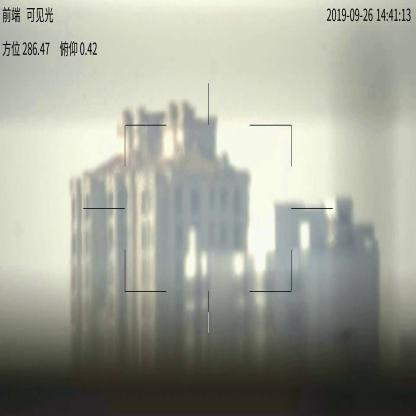uav: (334, 324, 358, 352)
